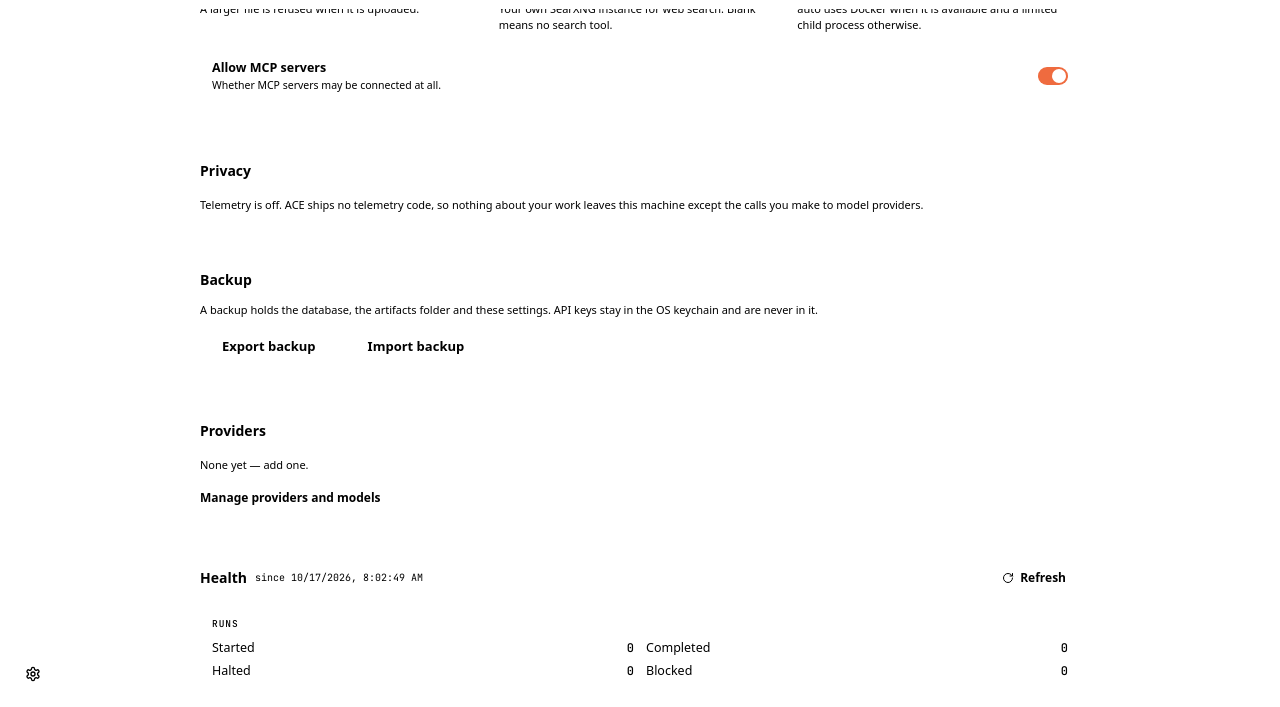
Test case: FR-SYS-012 Backup › Export downloads the zip as ace-backup-YYYY-MM-DD.zip through an object URL
(page scrolled)
Click the button with test id "backup-export" at [269, 347], box [200, 330, 338, 364]
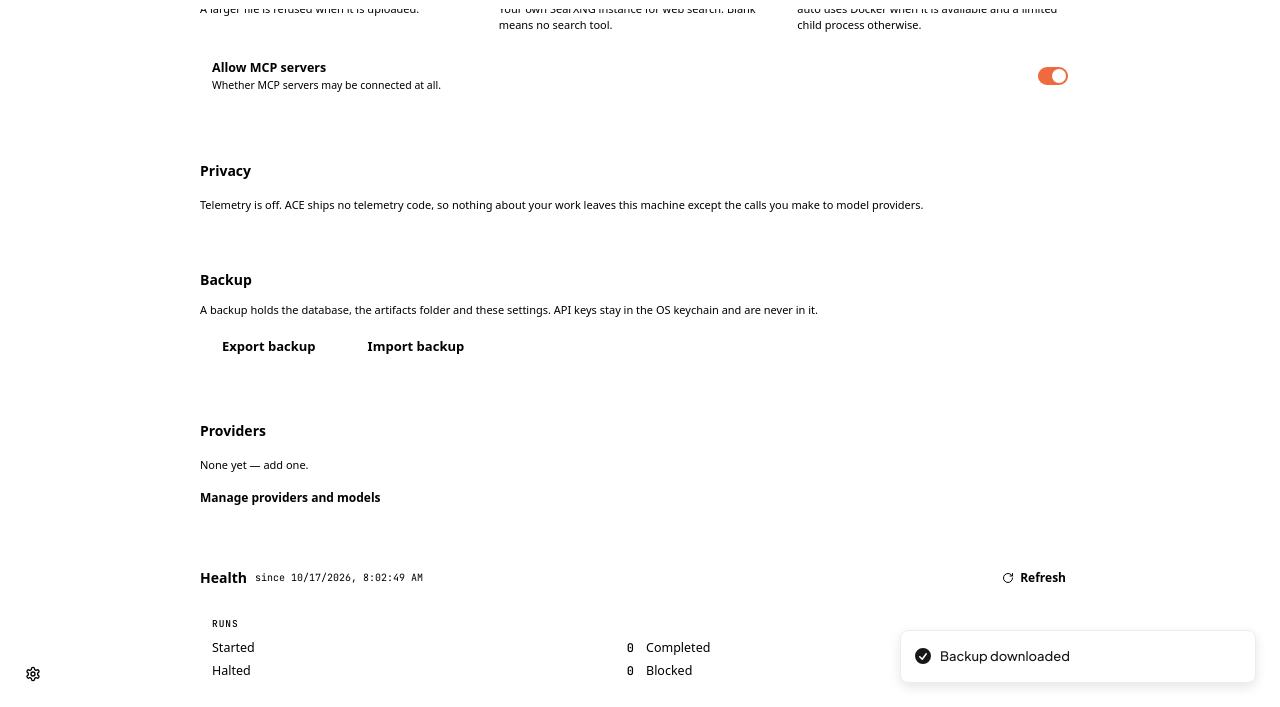
Check: the text "Backup downloaded" is shown, box [940, 646, 1070, 666]
